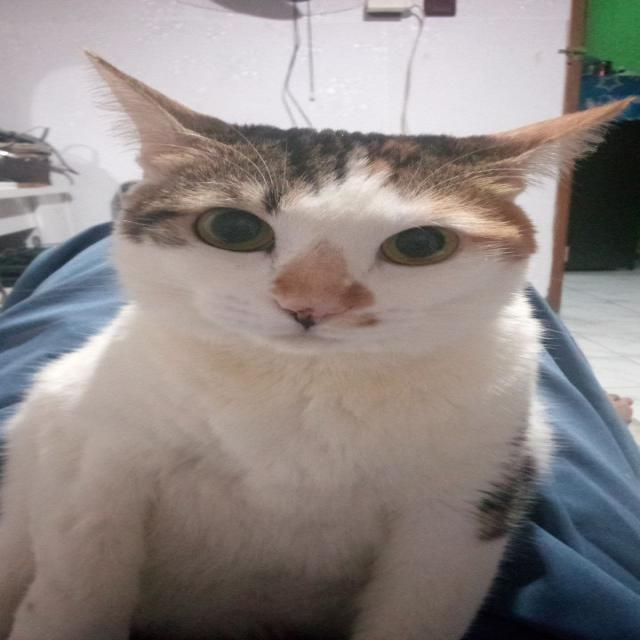da khoe manh: (125, 373, 450, 612)
